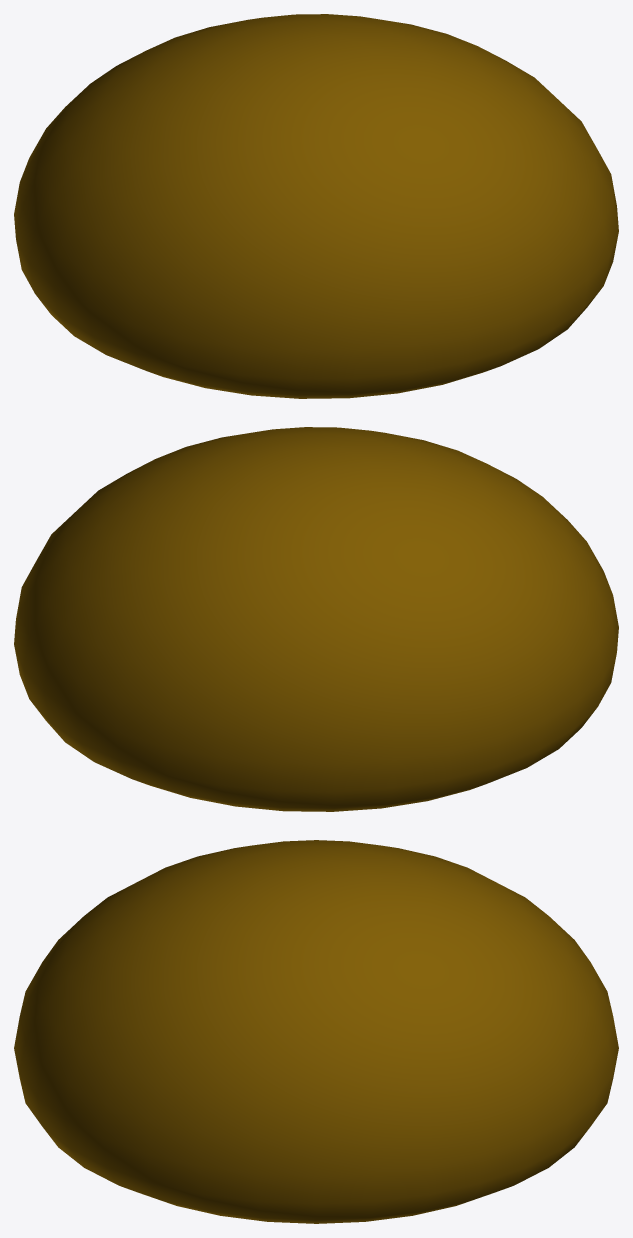
The model's file is bread.obj.
The picture shows the model from 3 angles, top to bottom: view 1: azimuth 30°, elevation 25°; view 2: azimuth 150°, elevation 25°; view 3: azimuth 270°, elevation 25°; orthographic projection.
Parts seen in each view (by area): view 1: Sphere001; view 2: Sphere001; view 3: Sphere001.
Boxes of the visible parts, x1,y1,x2,y2 form: Sphere001: [14, 14, 618, 398]; Sphere001: [14, 427, 618, 811]; Sphere001: [14, 840, 618, 1223].
Size of the model in its own units: 26.19 by 11.68 by 26.23.
